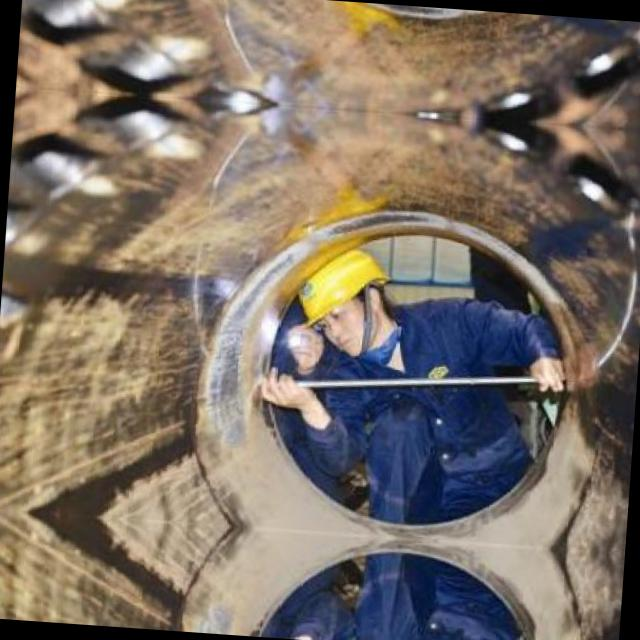helmet: (272, 226, 401, 360)
